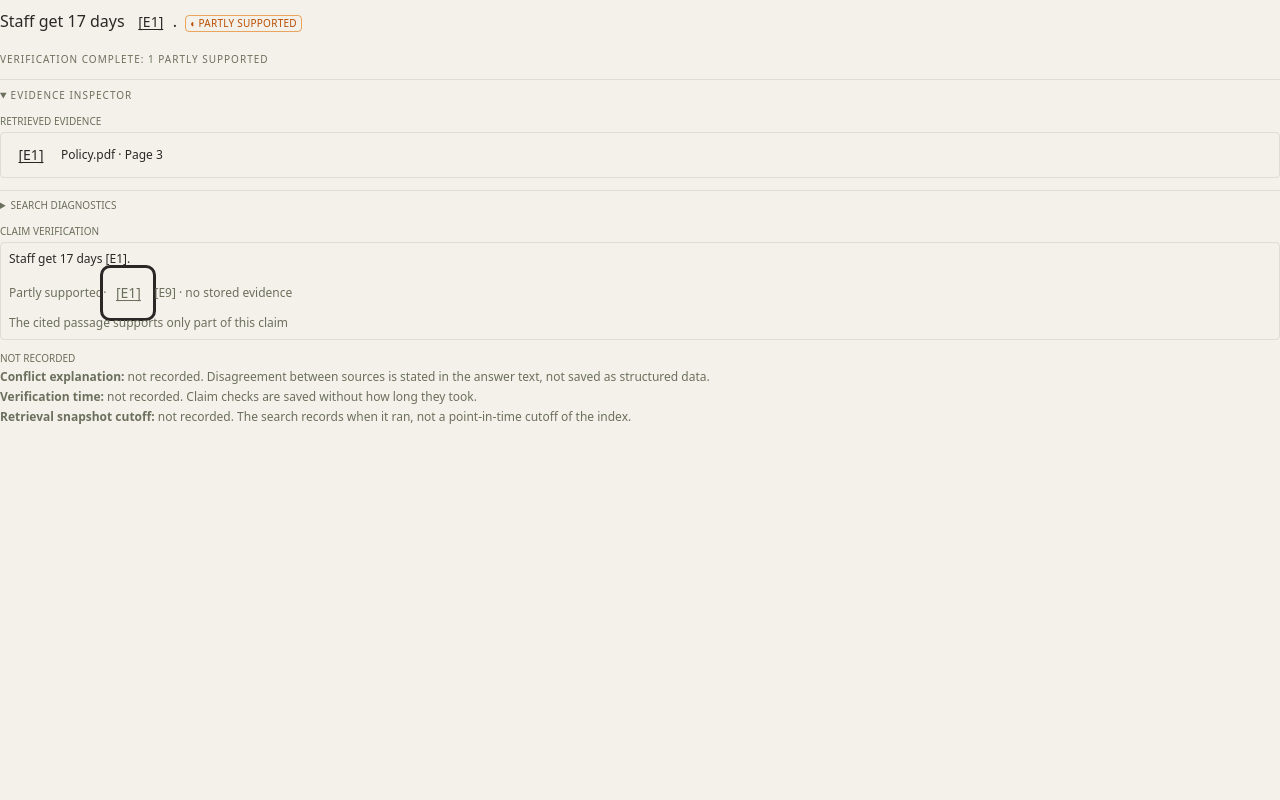
Scenario: claims lead to the exact passage › opens the cited passage from the claim with the keyboard, moves focus into it, and Escape returns focus
The image size is (1280, 800).
Click the button "[E1]" next to "E9": (128, 293) x1=106 y1=271 x2=150 y2=315
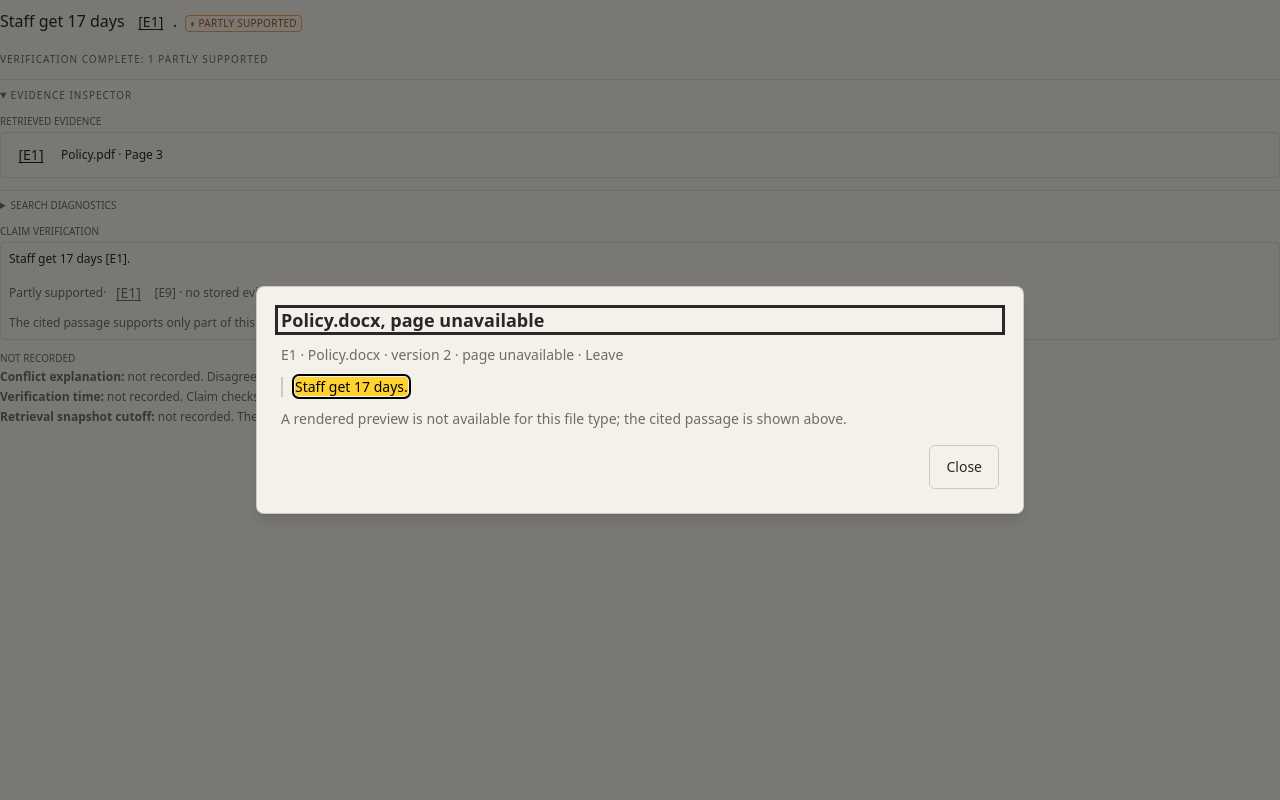
Now the dialog is shown, box x1=256 y1=286 x2=1024 y2=514
Now the dialog shows "version 2", box x1=380 y1=345 x2=451 y2=364
Press Escape in the heading "Policy.docx, page unavailable", box x1=281 y1=308 x2=544 y2=332
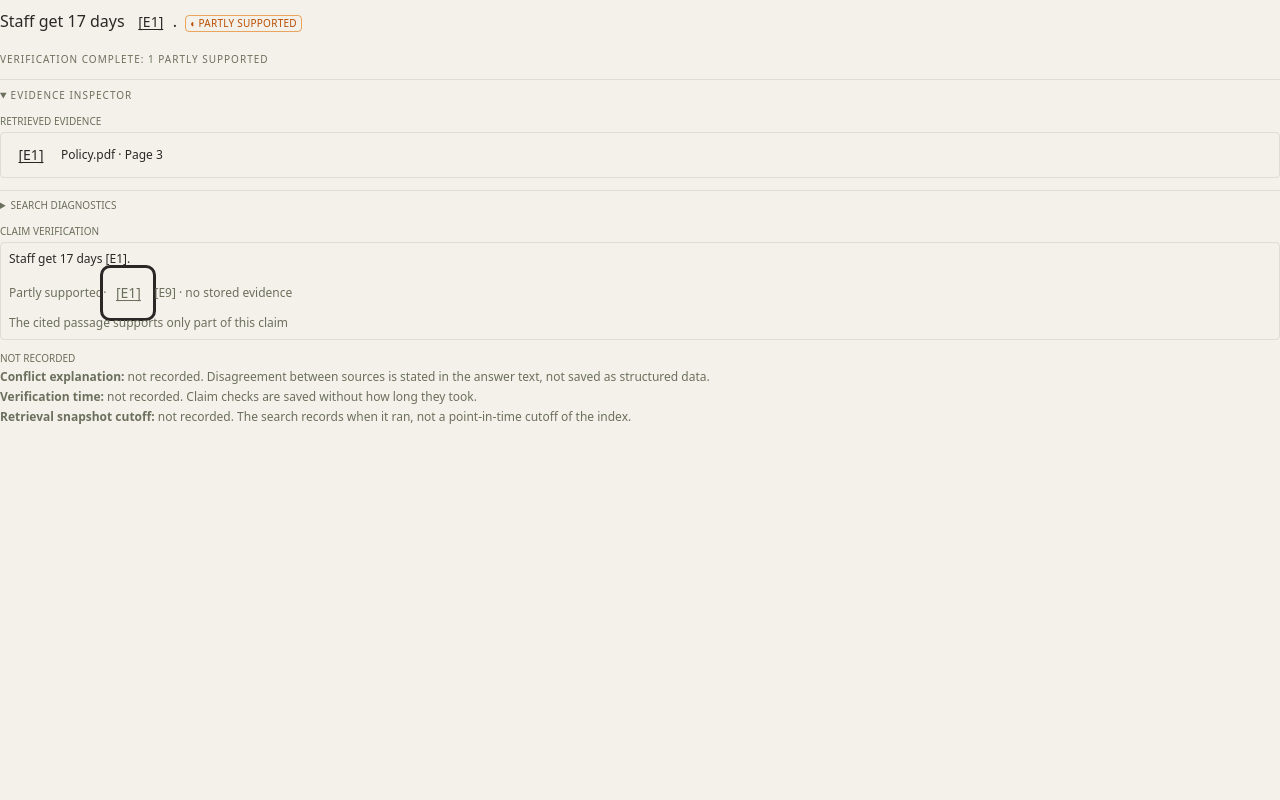
Now the dialog is gone
